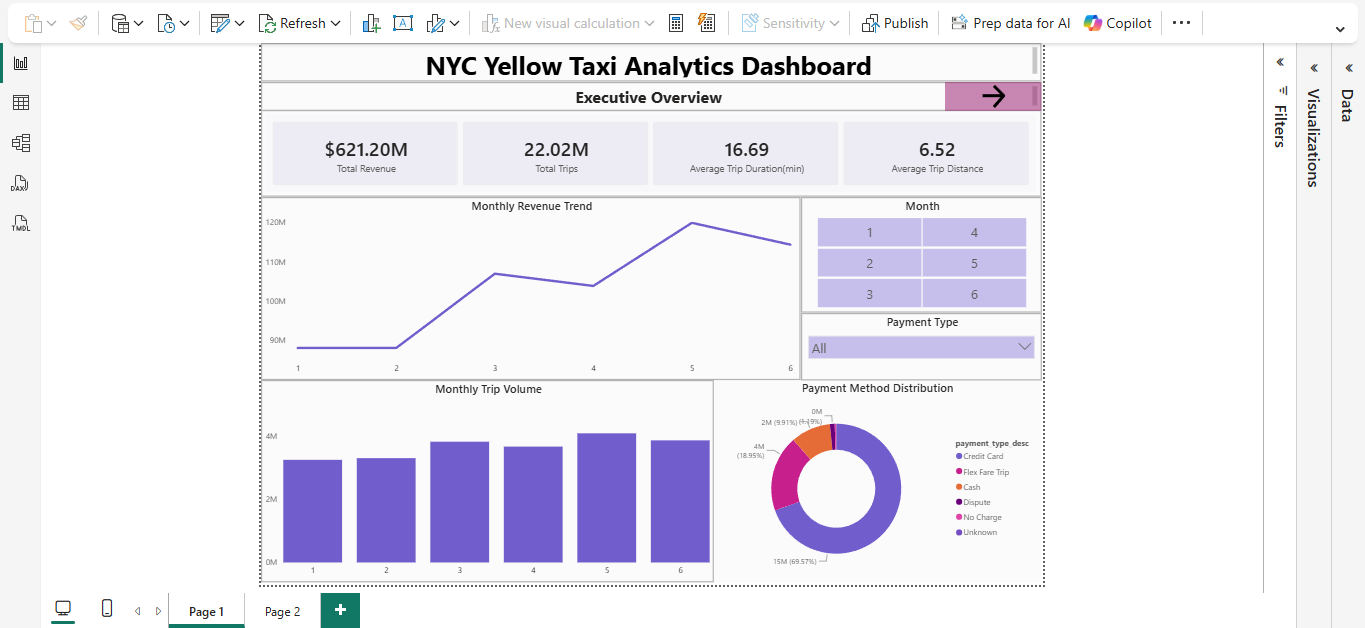

The page's visual inventory and layout, read from the dashboard file:
{"tool":"powerbi","page":{"name":"Page 1","canvas":[1300,900],"ordinal":0},"visuals":[{"type":"cardVisual","fields":{"Data":["Monthly Revenue Trend.Total Revenue","Monthly Trip Volume.Total_trips","Sum(Average Trip Duration.average_trip_duration)","Sum(Average Trip Distance.avg_trip_distance)"]},"box":[0,112,1296,144],"z":0},{"type":"lineChart","title":"Monthly Revenue Trend","fields":{"Category":["Monthly Revenue Trend.pickup_month"],"Y":["Sum(Monthly Revenue Trend.total_revenue)"]},"box":[0,256,896,304],"z":1000},{"type":"columnChart","title":"Monthly Trip Volume","fields":{"Category":["Monthly Trip Volume.pickup_month"],"Y":["Sum(Monthly Trip Volume.trip_count)"]},"box":[0,560,752,336],"z":2000},{"type":"donutChart","title":"Payment Method Distribution","fields":{"Y":["Sum(Payment Method Distribution.payment_type_count)"],"Category":["Payment Method Distribution.payment_type_desc"]},"box":[752,560,544,336],"z":3000},{"type":"textbox","box":[0,0,1296,64],"z":4000},{"type":"textbox","box":[0,64,1296,48],"z":5000},{"type":"slicer","title":"Month","fields":{"Values":["Monthly Revenue Trend.pickup_month"]},"box":[896,256,400,192],"z":6000},{"type":"slicer","title":"Payment Type","fields":{"Values":["Payment Method Distribution.payment_type_desc"]},"box":[896,448,400,112],"z":7000},{"type":"actionButton","box":[1136,64,160,48],"z":7001}]}

Visuals, with their boxes on the page's 1300x900 design canvas (x1, y1, x2, y2). These are canvas units, not pixel positions in the 1365x628 screenshot, which may show the page scaled, cropped or inside an application window:
cardVisual - Monthly Revenue Trend.Total Revenue x Monthly Trip Volume.Total_trips: [x1=0, y1=112, x2=1296, y2=256]
"Monthly Revenue Trend" lineChart: [x1=0, y1=256, x2=896, y2=560]
"Monthly Trip Volume" columnChart: [x1=0, y1=560, x2=752, y2=896]
"Payment Method Distribution" donutChart: [x1=752, y1=560, x2=1296, y2=896]
textbox: [x1=0, y1=0, x2=1296, y2=64]
textbox: [x1=0, y1=64, x2=1296, y2=112]
"Month" slicer: [x1=896, y1=256, x2=1296, y2=448]
"Payment Type" slicer: [x1=896, y1=448, x2=1296, y2=560]
actionButton: [x1=1136, y1=64, x2=1296, y2=112]
